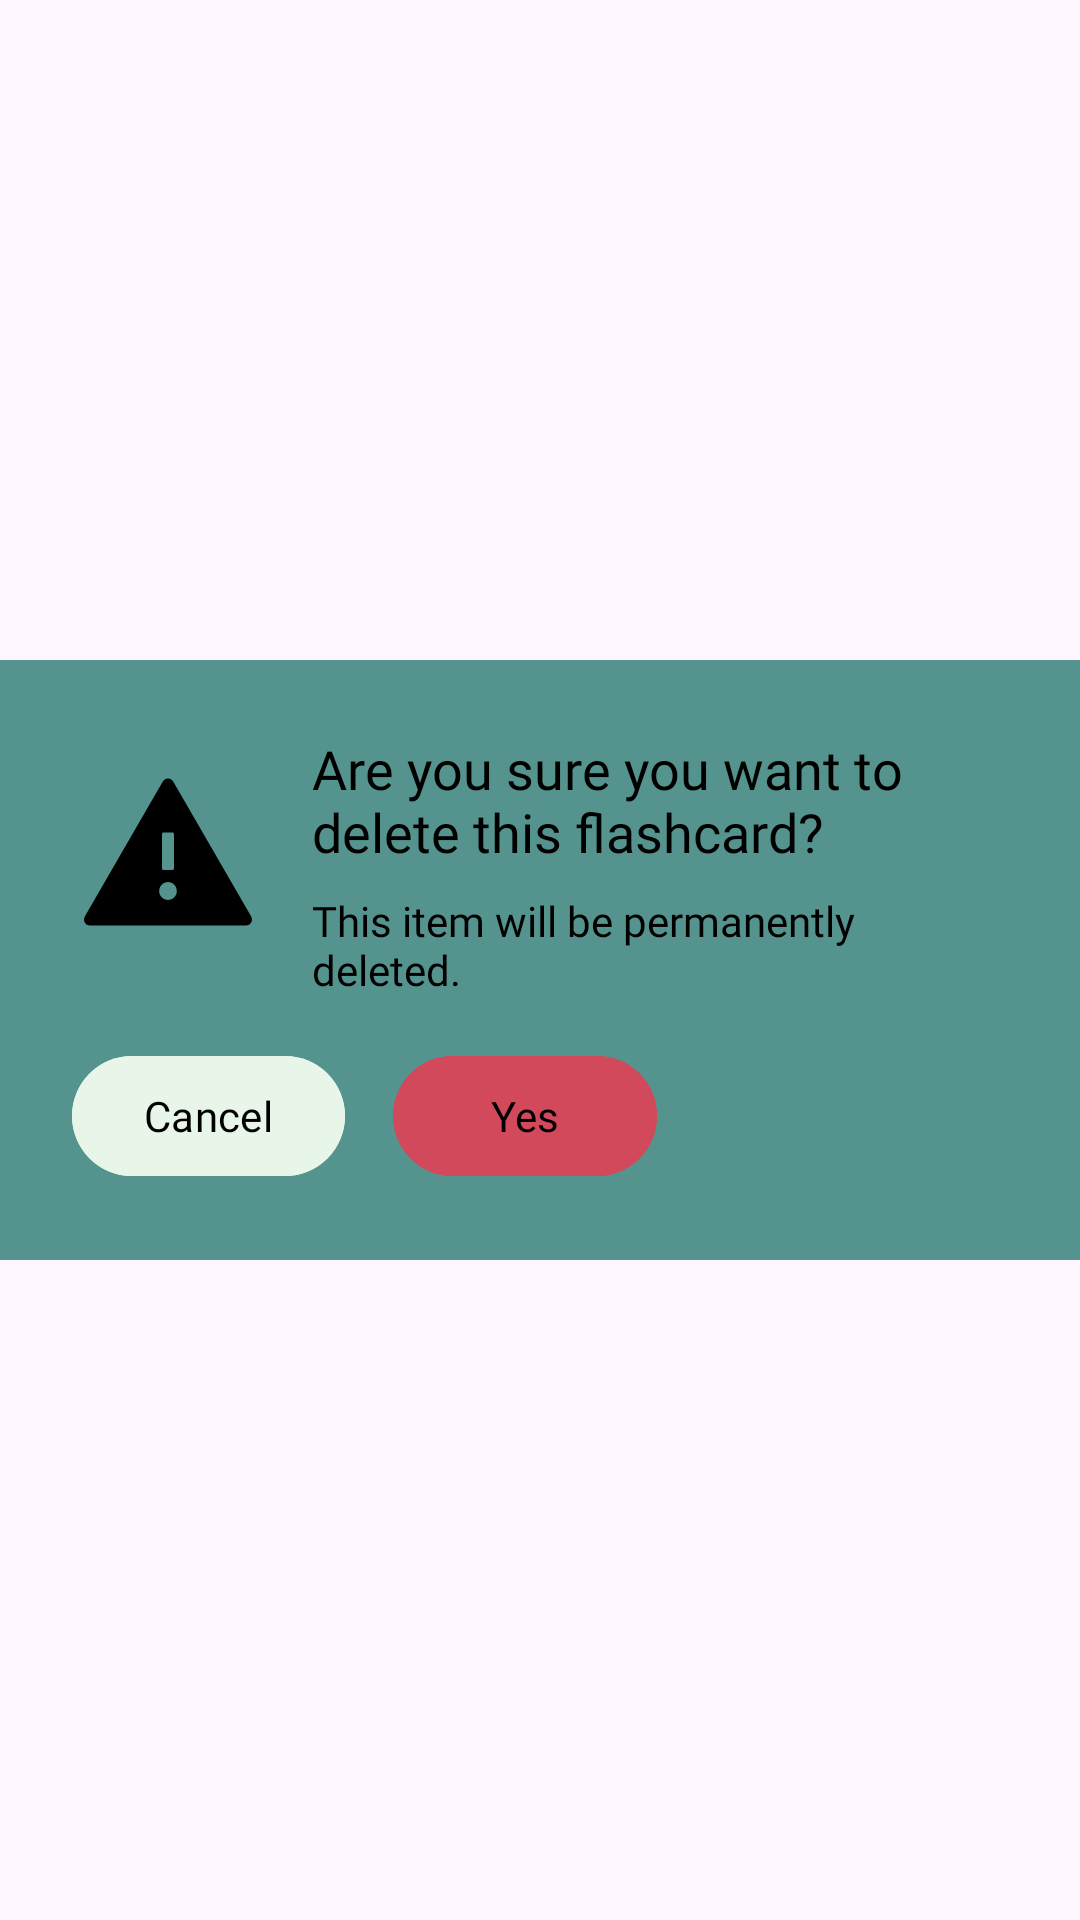

Screen size 1080*1920. Icon name, then its box in pixels as (x1, y1, x2, y2):
Warning: (84, 778, 252, 926)
